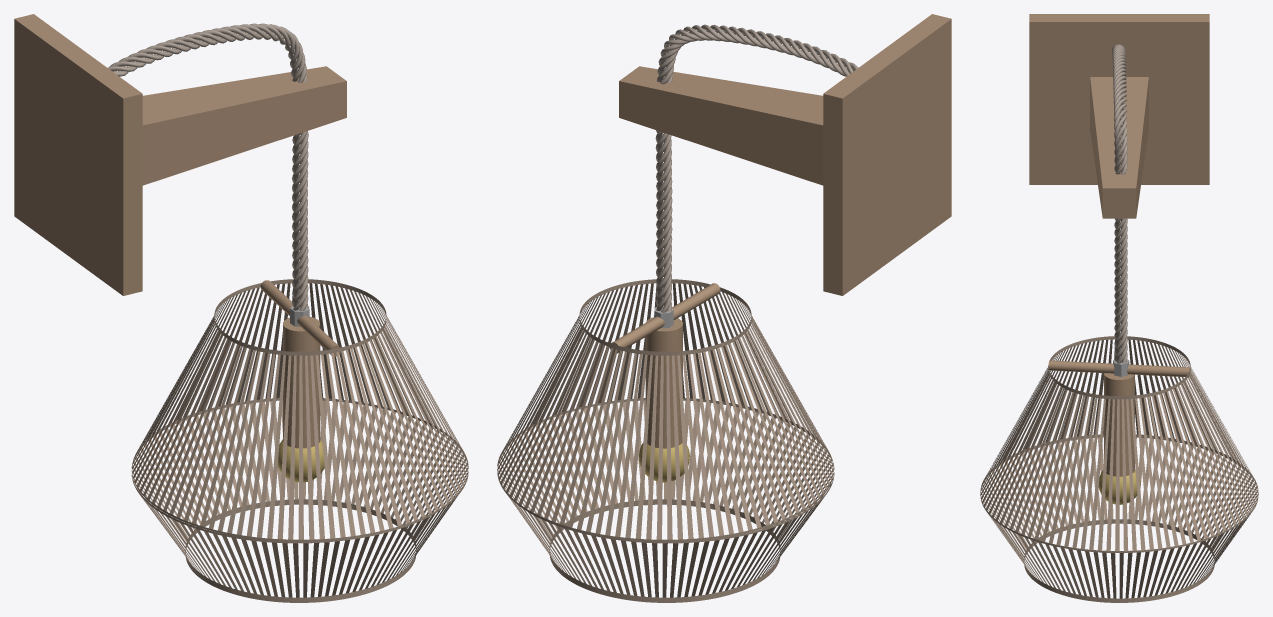
File: lamp.fbx
3 views of the same model, side by side, from view 1: azimuth 30°, elevation 25°; view 2: azimuth 150°, elevation 25°; view 3: azimuth 270°, elevation 25° (orthographic). The views are drawn at different scales.
Parts seen in each view (by area): view 1: pCone2, pCube1, sweep1, pCylinder3, pCylinder2, pSphere1; view 2: pCone2, pCube1, sweep1, pCylinder3, pCylinder2, pSphere1; view 3: pCone2, pCube1, sweep1, pCylinder3, pCylinder2, pSphere1.
Part boxes in pixels (bbox=[...]): pCone2: bbox=[131, 279, 468, 602]; pCube1: bbox=[14, 14, 346, 295]; sweep1: bbox=[107, 23, 308, 311]; pCylinder3: bbox=[283, 316, 320, 448]; pCylinder2: bbox=[260, 280, 340, 356]; pSphere1: bbox=[277, 439, 324, 482]; pCone2: bbox=[497, 279, 834, 602]; pCube1: bbox=[619, 14, 951, 295]; sweep1: bbox=[655, 24, 858, 312]; pCylinder3: bbox=[645, 317, 682, 448]; pCylinder2: bbox=[609, 283, 720, 353]; pSphere1: bbox=[639, 443, 689, 482]; pCone2: bbox=[980, 336, 1258, 602]; pCube1: bbox=[1029, 14, 1209, 218]; sweep1: bbox=[1112, 44, 1127, 363]; pCylinder3: bbox=[1104, 373, 1134, 476]; pCylinder2: bbox=[1048, 360, 1190, 377]; pSphere1: bbox=[1098, 469, 1140, 504].
Bounding box in the file's own units: 1.21 × 1.7 × 0.938.
